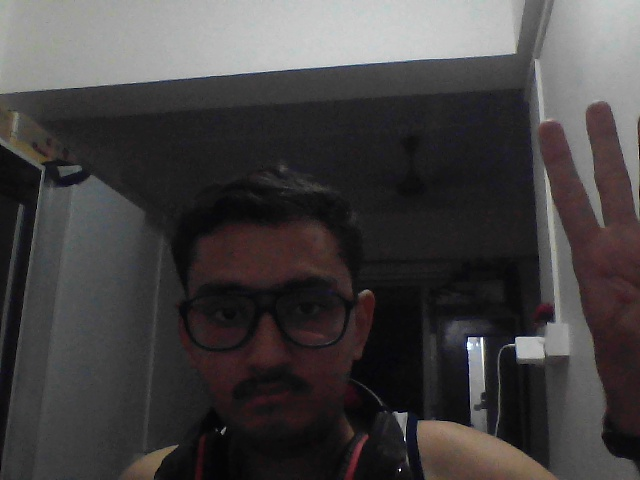Hello: (522, 90, 640, 379)
